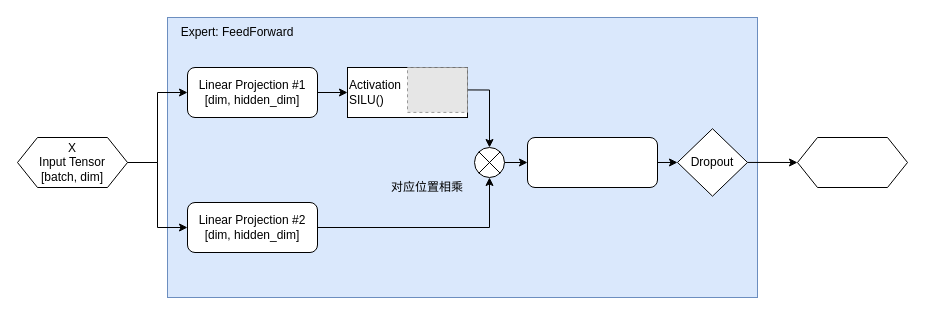
This 925x315 diagram has some shape labels left out. Grey dashed boxes stand in for pictures. Each missing label, with the centre of its shape:
Linear Projection #3 [hidden_dim, dim]: the point at 592,162
Y Output Tensor [batch, dim]: the point at 852,162
